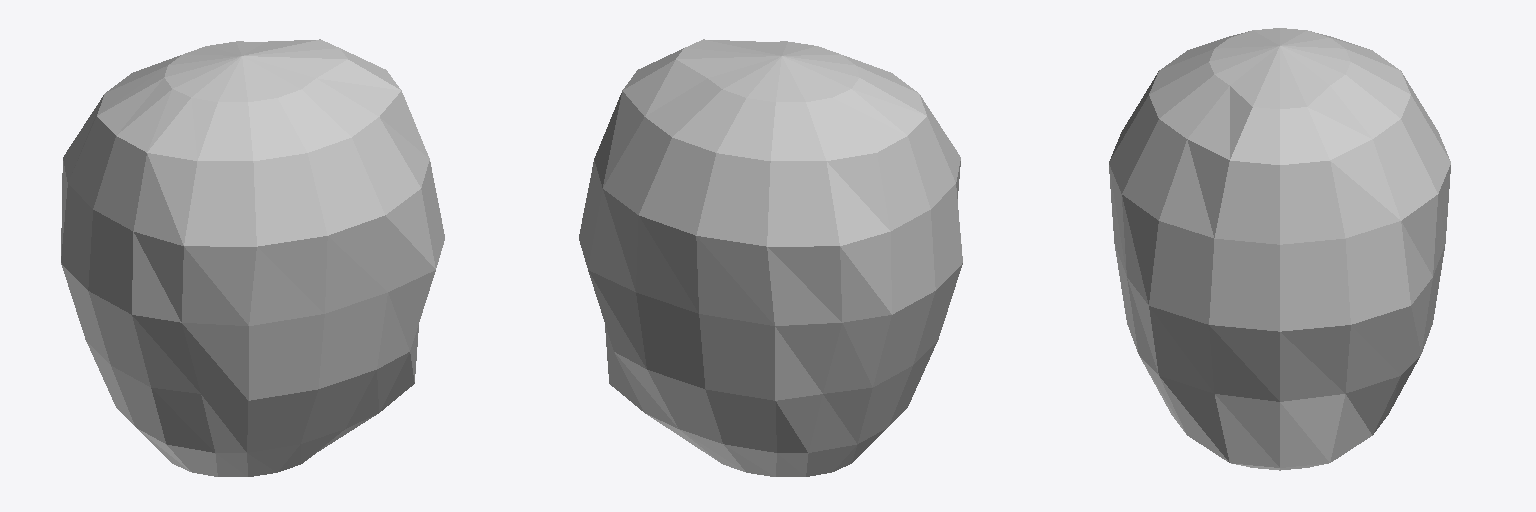
File: head.obj
3 views of the same model, side by side, from view 1: azimuth 30°, elevation 25°; view 2: azimuth 150°, elevation 25°; view 3: azimuth 270°, elevation 25° (orthographic).
Visible parts, largest first — view 1: Sphere; view 2: Sphere; view 3: Sphere.
Part boxes in pixels (x1,y1,x2,y2): Sphere: (61,39,444,476); Sphere: (579,39,962,476); Sphere: (1109,28,1450,470).
Size of the model in its own units: 1.68 by 1.94 by 1.48.